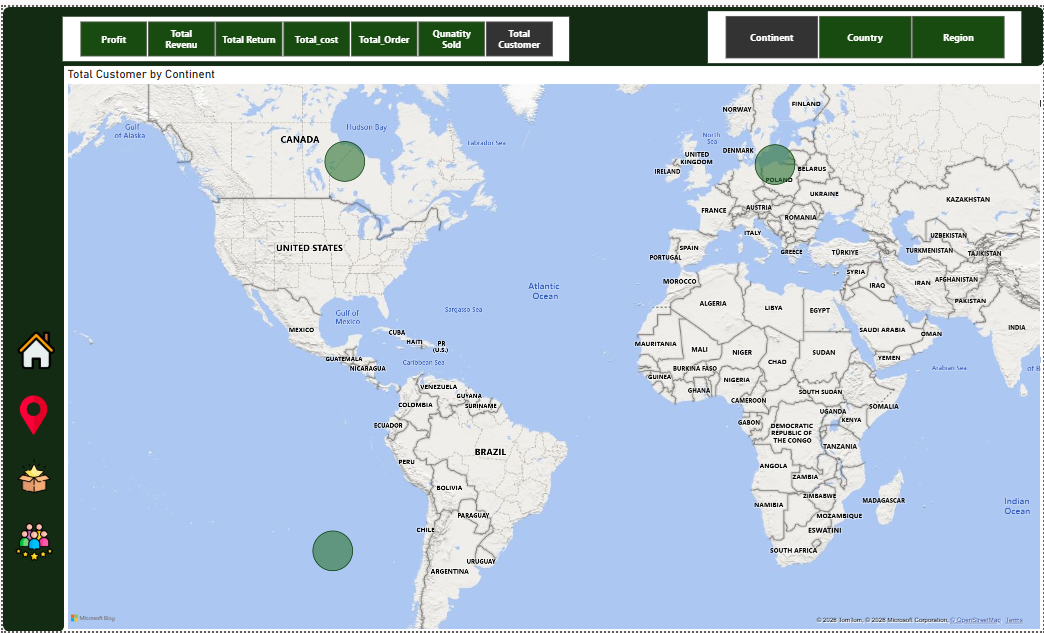

This screenshot's page, from the dashboard's own definition file:
{"tool":"powerbi","page":{"name":"Map","canvas":[1500,900],"ordinal":1},"visuals":[{"type":"shape","box":[0,0,1500,85],"z":0},{"type":"shape","box":[0,63.3,88.3,836.7],"z":1000},{"type":"slicer","fields":{"Values":["Parameter 3.Parameter"]},"box":[86,14,730,64],"z":2000},{"type":"slicer","fields":{"Values":["Parameter 2.Parameter"]},"box":[1016.7,5,451.7,75],"z":3000},{"type":"image","box":[18,744,54,54],"z":4000},{"type":"image","box":[12,652,66,48],"z":5000},{"type":"image","box":[16,560,56,56],"z":6000},{"type":"image","box":[18,468,60,54],"z":7000},{"type":"map","fields":{"Size":["Measure_Table.Total Customer"],"Category":["Sales Territory Key Lookup.Continent"]},"box":[88,85,1412,815],"z":8000}]}

Visuals, with their boxes in screenshot pixels (x1, y1, x2, y2):
shape: Rect(0, 3, 1043, 63)
shape: Rect(0, 48, 63, 632)
slicer - Parameter 3.Parameter: Rect(61, 13, 581, 58)
slicer - Parameter 2.Parameter: Rect(723, 6, 1043, 60)
image: Rect(13, 532, 51, 571)
image: Rect(9, 467, 56, 501)
image: Rect(11, 401, 51, 441)
image: Rect(13, 336, 56, 374)
map - Measure_Table.Total Customer x Sales Territory Key Lookup.Continent: Rect(63, 63, 1043, 632)
